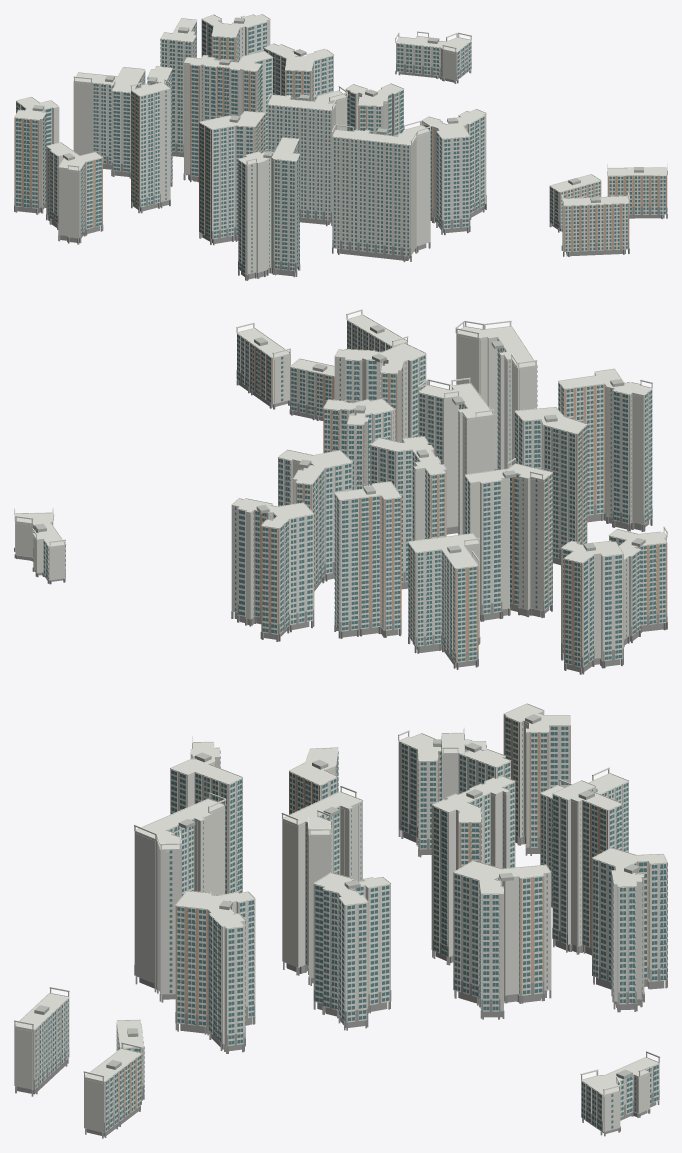
File: representative-a10024347.glb
The picture shows the model from 3 angles, top to bottom: view 1: azimuth 30°, elevation 25°; view 2: azimuth 150°, elevation 25°; view 3: azimuth 270°, elevation 25°; orthographic projection. The views are drawn at different scales.
Visible parts, largest first — view 1: A10024347_trim001, A10024347_wall001, A10024347_glass001, A10024347_accent001, A10024347_base001, A10024347_roof001; view 2: A10024347_wall001, A10024347_trim001, A10024347_glass001, A10024347_accent001, A10024347_base001, A10024347_roof001; view 3: A10024347_wall001, A10024347_trim001, A10024347_glass001, A10024347_accent001, A10024347_base001, A10024347_roof001.
Boxes of the visible parts, x1,y1,x2,y2 form: A10024347_trim001: (14,14,667,274); A10024347_wall001: (15,14,667,274); A10024347_glass001: (16,21,665,273); A10024347_accent001: (14,24,666,251); A10024347_base001: (14,61,667,280); A10024347_roof001: (32,17,643,202); A10024347_wall001: (15,315,666,660); A10024347_trim001: (14,309,667,667); A10024347_glass001: (33,321,665,666); A10024347_accent001: (250,343,667,667); A10024347_base001: (14,370,667,674); A10024347_roof001: (34,324,645,553); A10024347_wall001: (14,704,667,1132); A10024347_trim001: (14,703,667,1132); A10024347_glass001: (35,718,667,1130); A10024347_accent001: (118,714,667,1121); A10024347_base001: (15,820,667,1138); A10024347_roof001: (34,714,639,1079).
Size of the model in its own units: 342 by 81.15 by 303.
